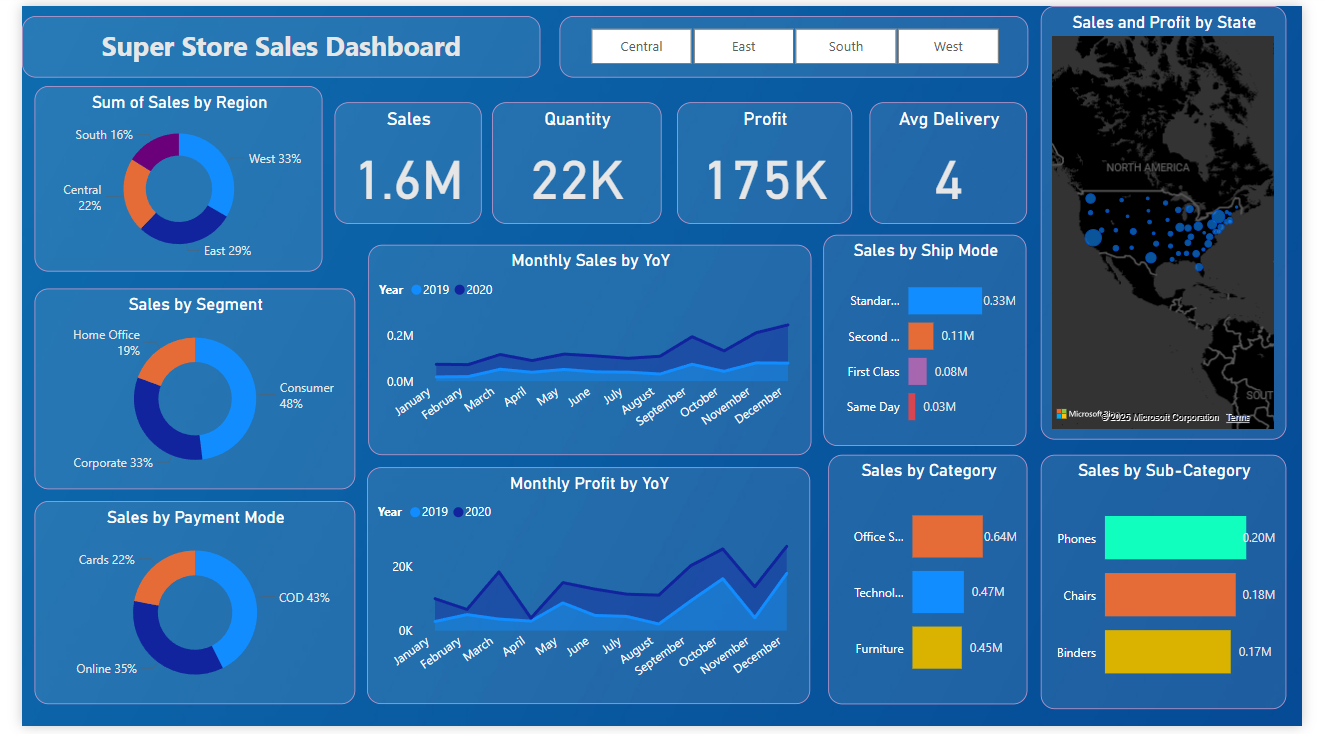

What the dashboard file says about the page in this screenshot:
{"tool":"powerbi","page":{"name":"Page 1","canvas":[1280,720],"ordinal":0},"visuals":[{"type":"clusteredBarChart","title":" Sales by Category","fields":{"Category":["SuperStore_Sales.Category"],"Y":["Sum(SuperStore_Sales.Sales)"]},"box":[805.9,448.8,199.5,249.3],"z":0},{"type":"clusteredBarChart","title":" Sales by Sub-Category","fields":{"Category":["SuperStore_Sales.Sub-Category"],"Y":["Sum(SuperStore_Sales.Sales)"]},"box":[1018.8,448.8,245.3,254.7],"z":1000},{"type":"clusteredBarChart","title":" Sales by Ship Mode","fields":{"Category":["SuperStore_Sales.Ship Mode"],"Y":["Sum(SuperStore_Sales.Sales)"]},"box":[801.9,229.1,203.5,211.6],"z":2000},{"type":"stackedAreaChart","title":" Monthly Sales by YoY","fields":{"Y":["Sum(SuperStore_Sales.Sales)"],"Series":["SuperStore_Sales.Order Date.Variation.Date Hierarchy.Year"],"Category":["SuperStore_Sales.Order Date.Variation.Date Hierarchy.Month","SuperStore_Sales.Order Date.Variation.Date Hierarchy.Day"]},"box":[346.3,238.5,443.4,210.2],"z":3000},{"type":"stackedAreaChart","title":" Monthly Profit by YoY","fields":{"Series":["SuperStore_Sales.Order Date.Variation.Date Hierarchy.Year"],"Category":["SuperStore_Sales.Order Date.Variation.Date Hierarchy.Month","SuperStore_Sales.Order Date.Variation.Date Hierarchy.Day"],"Y":["Sum(SuperStore_Sales.Profit)"]},"box":[345,460.9,443.4,237.2],"z":4000},{"type":"map","title":" Sales and Profit by State","fields":{"Category":["SuperStore_Sales.State"],"Size":["Sum(SuperStore_Sales.Sales)"]},"box":[1018.8,0,245.3,433.9],"z":5000},{"type":"donutChart","title":" Sales by Segment","fields":{"Category":["SuperStore_Sales.Segment"],"Y":["Sum(SuperStore_Sales.Sales)"]},"box":[12.1,283,320.7,200.8],"z":6000},{"type":"donutChart","title":" Sales by Payment Mode","fields":{"Category":["SuperStore_Sales.Payment Mode"],"Y":["Sum(SuperStore_Sales.Sales)"]},"box":[12.1,494.6,320.7,203.5],"z":7000},{"type":"slicer","fields":{"Values":["SuperStore_Sales.Region"]},"box":[537.5,10,468.8,61.2],"z":8000},{"type":"textbox","box":[0,10,518.8,61.2],"z":9000},{"type":"card","title":"Sales","fields":{"Values":["Sum(SuperStore_Sales.Sales)"]},"box":[312.7,95.7,146.9,121.3],"z":9001},{"type":"card","title":"Quantity","fields":{"Values":["Sum(SuperStore_Sales.Quantity)"]},"box":[470.3,95.7,169.8,121.3],"z":9002},{"type":"card","title":"Profit","fields":{"Values":["Sum(SuperStore_Sales.Profit)"]},"box":[655,95.7,175.2,121.3],"z":9003},{"type":"card","title":"Avg Delivery","fields":{"Values":["Avg(SuperStore_Sales.AvgDelivery)"]},"box":[847.7,95.7,157.7,121.3],"z":9004},{"type":"donutChart","fields":{"Y":["Sum(SuperStore_Sales.Sales)"],"Category":["SuperStore_Sales.Region"]},"box":[12.1,79.5,288.4,186],"z":9005}]}

Visuals, with their boxes in screenshot pixels (x1, y1, x2, y2), scaled from the page's 1280x720 canvas onto the 1325x734 screenshot:
" Sales by Category" clusteredBarChart: 834,458,1041,712
" Sales by Sub-Category" clusteredBarChart: 1055,458,1309,717
" Sales by Ship Mode" clusteredBarChart: 830,234,1041,449
" Monthly Sales by YoY" stackedAreaChart: 358,243,817,457
" Monthly Profit by YoY" stackedAreaChart: 357,470,816,712
" Sales and Profit by State" map: 1055,0,1309,442
" Sales by Segment" donutChart: 13,289,344,493
" Sales by Payment Mode" donutChart: 13,504,344,712
slicer - SuperStore_Sales.Region: 556,10,1042,73
textbox: 0,10,537,73
"Sales" card: 324,98,476,221
"Quantity" card: 487,98,663,221
"Profit" card: 678,98,859,221
"Avg Delivery" card: 878,98,1041,221
donutChart - Sum(SuperStore_Sales.Sales) x SuperStore_Sales.Region: 13,81,311,271
